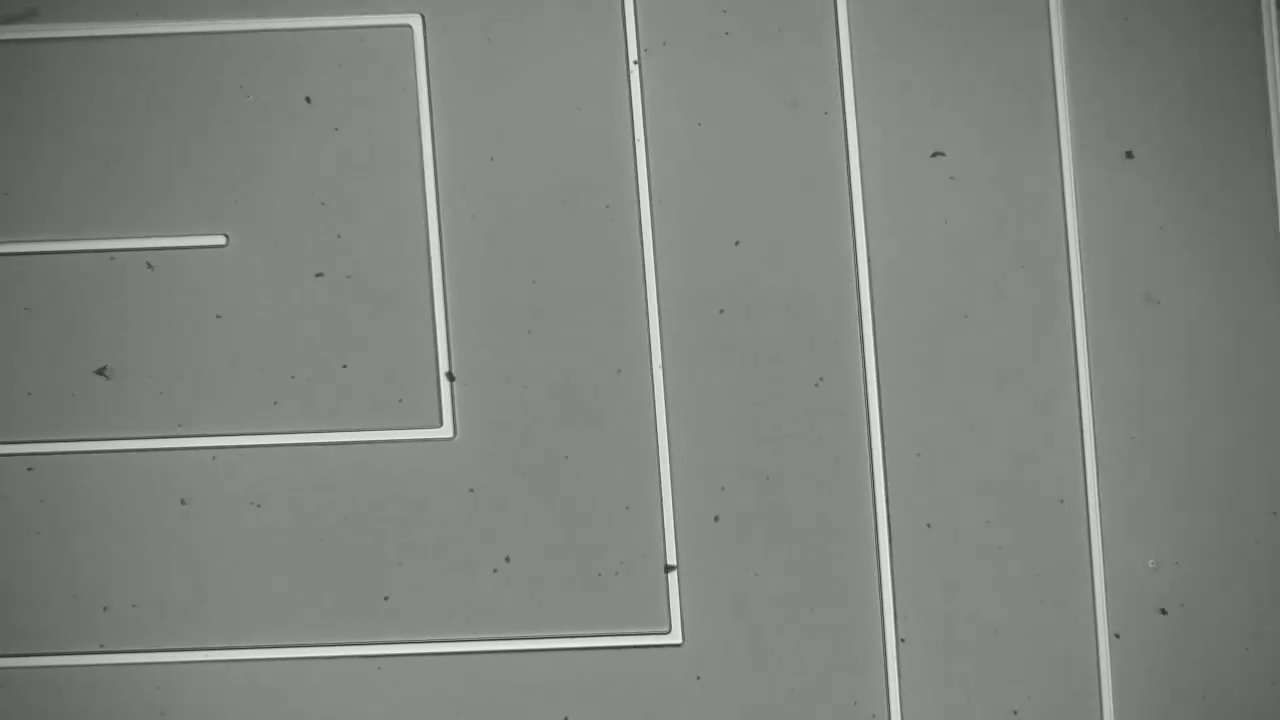stains_enbedded: (434, 363, 466, 390), (660, 556, 687, 579)
